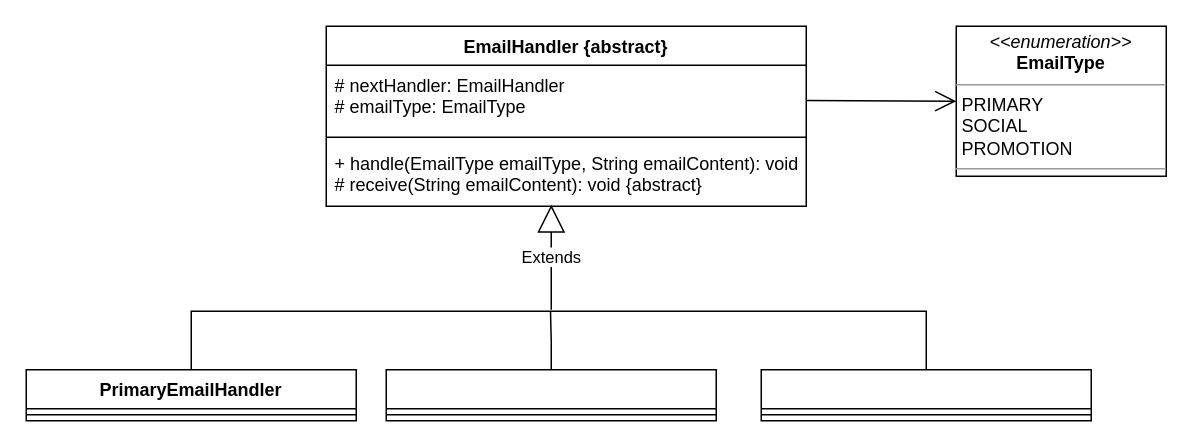
Some shapes in this 1193 by 447 pixel diagram are drawn without their labels. The centre of each missing label's shape, as x and y in pixels:
"PromotionEmailHandler" belongs at (925,394).
"SocialEmailHandler" belongs at (550,394).
